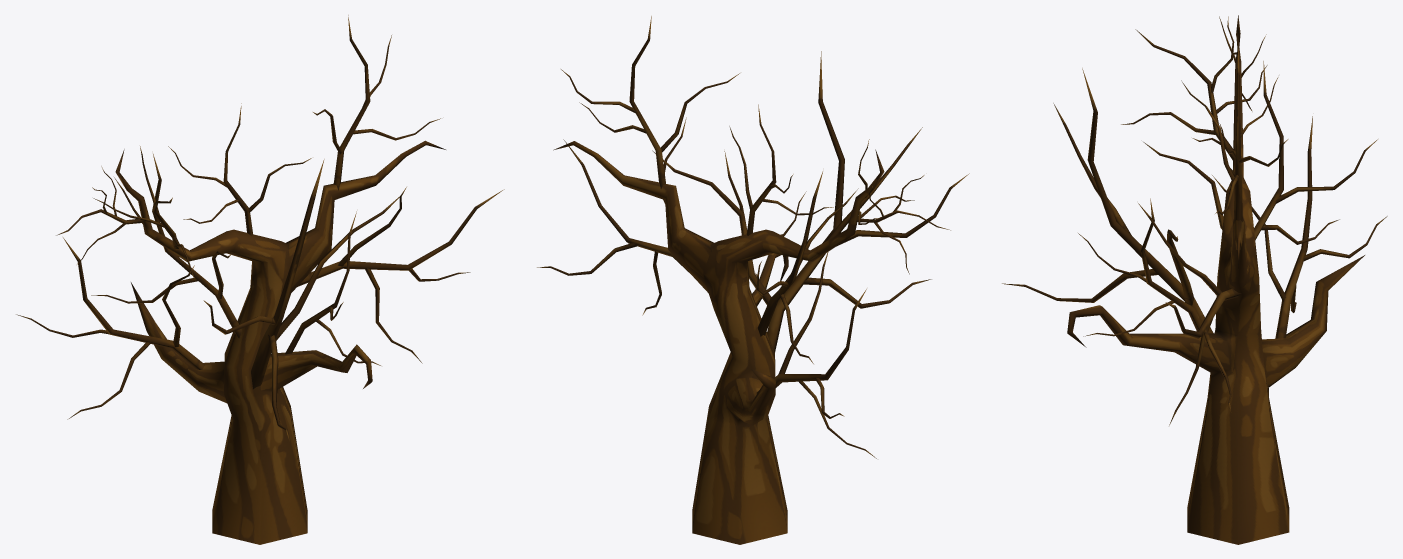
File: Tree_02.FBX
3 renders of one model, left to right at view 1: azimuth 30°, elevation 25°; view 2: azimuth 150°, elevation 25°; view 3: azimuth 270°, elevation 25°, orthographic. The views are drawn at different scales.
Parts seen in each view (by area): view 1: Tree_02; view 2: Tree_02; view 3: Tree_02.
Part boxes in pixels (x1,y1,x2,y2): Tree_02: [16, 15, 504, 544]; Tree_02: [537, 16, 969, 544]; Tree_02: [1002, 15, 1387, 544].
Size of the model in its own units: 129 by 143 by 96.7.
1 material, 1 textured.
